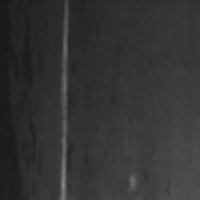scratches: (55, 0, 74, 199)
